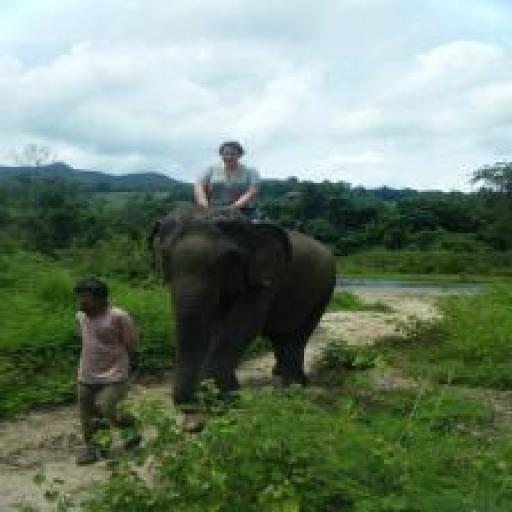Elephant: (149, 206, 336, 415)
